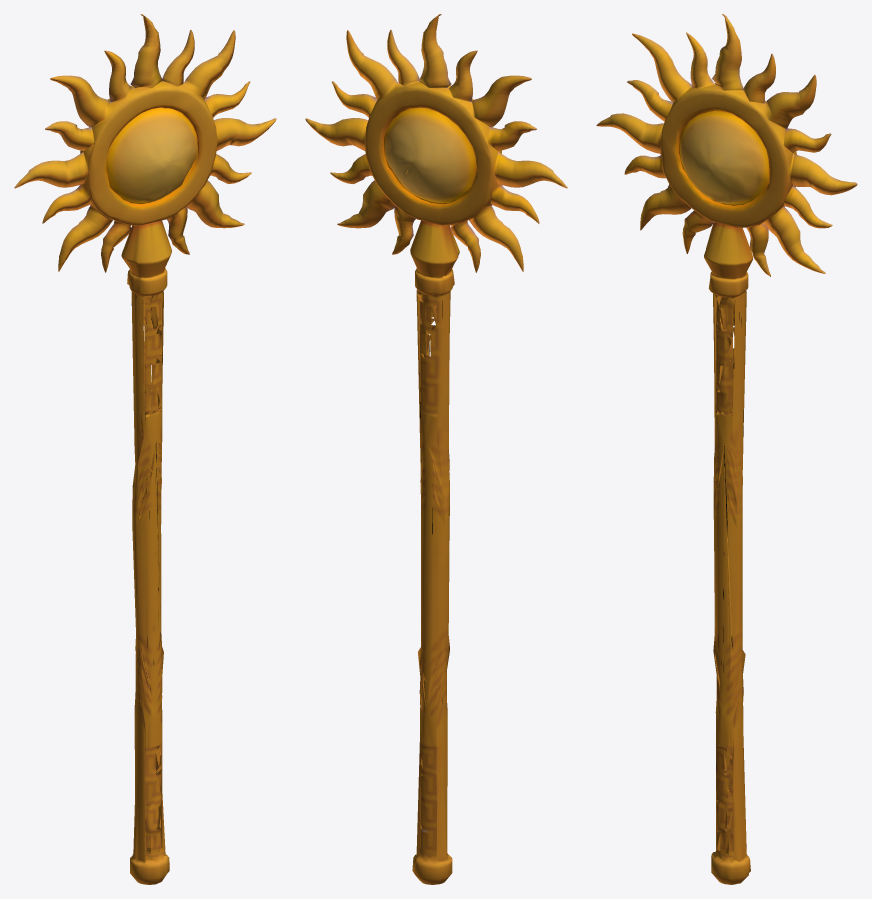
File: wpn_apollo.glb
3 views of the same model, side by side, from view 1: azimuth 30°, elevation 25°; view 2: azimuth 150°, elevation 25°; view 3: azimuth 330°, elevation 25° (orthographic).
Parts seen in each view (by area): view 1: geometry_0; view 2: geometry_0; view 3: geometry_0.
Part boxes in pixels (x1,y1,x2,y2): geometry_0: (14,14,276,884); geometry_0: (305,14,567,884); geometry_0: (596,14,857,884).
Size of the model in its own units: 0.3003 by 0.9502 by 0.0679.
Materials: 1 (1 with a texture image).
